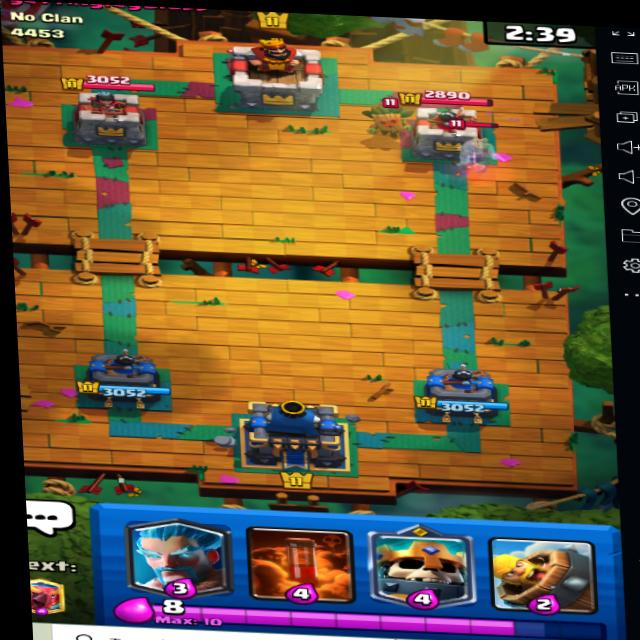dart-goblin: (366, 100, 414, 146)
royal-ghost: (443, 116, 514, 178)
